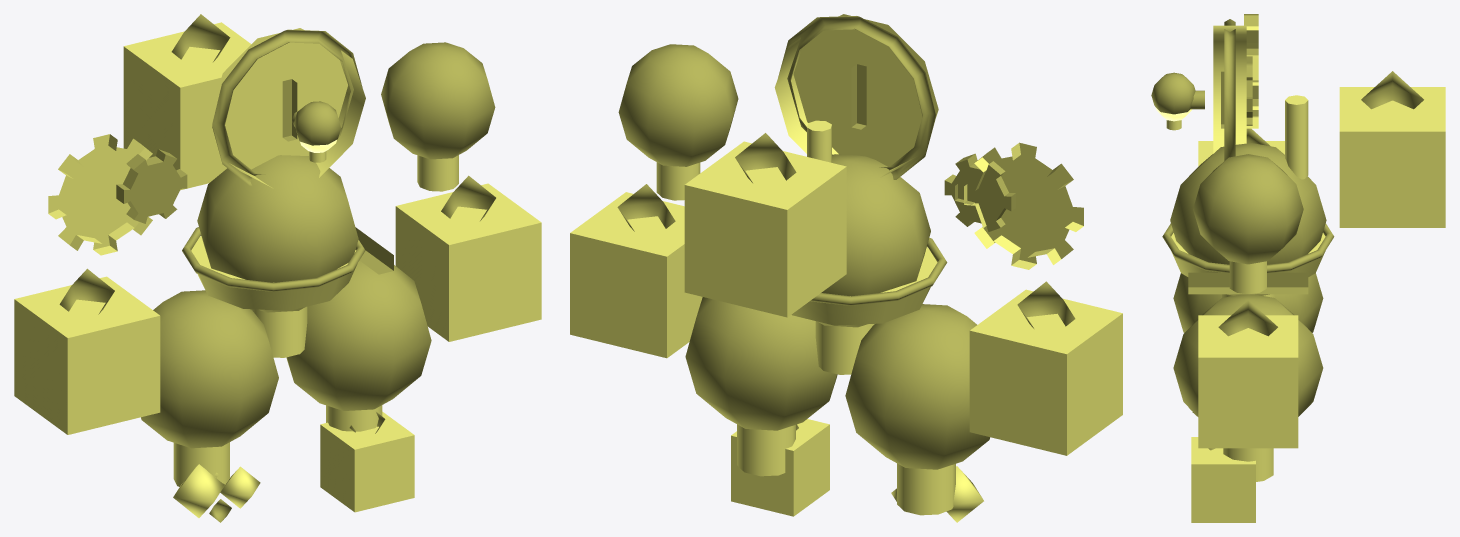
The model's file is golem_077.glb.
3 renders of one model, left to right at view 1: azimuth 30°, elevation 25°; view 2: azimuth 150°, elevation 25°; view 3: azimuth 270°, elevation 25°, orthographic. The views are drawn at different scales.
Parts seen in each view (by area): view 1: Body, Detail; view 2: Body, Detail; view 3: Body, Detail.
Part boxes in pixels (left/top/right/bottom): Body: left=14, top=22, right=541, bottom=517; Detail: left=59, top=14, right=495, bottom=522; Body: left=570, top=14, right=1122, bottom=522; Detail: left=617, top=16, right=1075, bottom=469; Body: left=1166, top=14, right=1445, bottom=522; Detail: left=1151, top=19, right=1423, bottom=450.
Bounding box in the file's own units: 1.49 × 1.44 × 0.8567.
